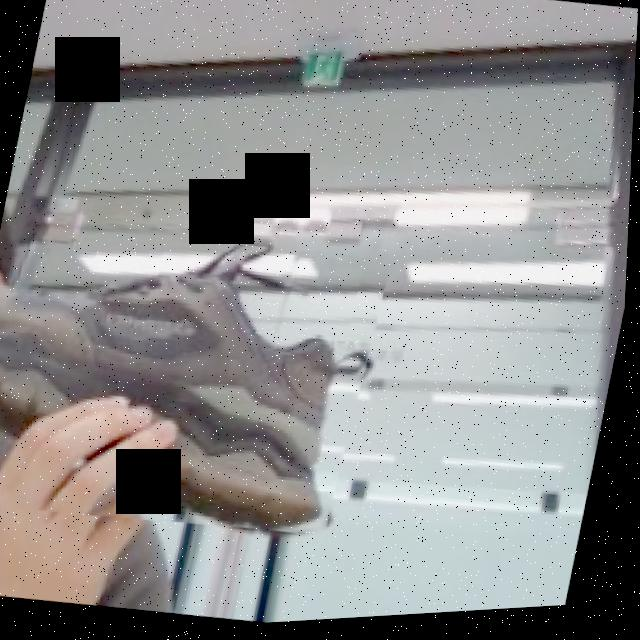shoe: (0, 203, 396, 563)
